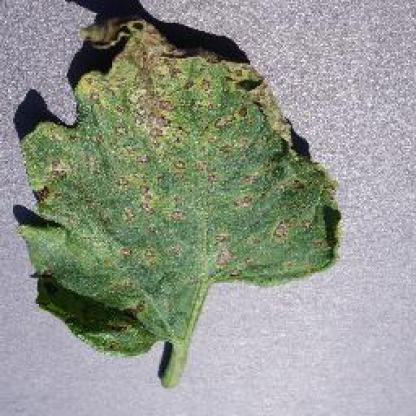bad leaf: (5, 4, 365, 387)
